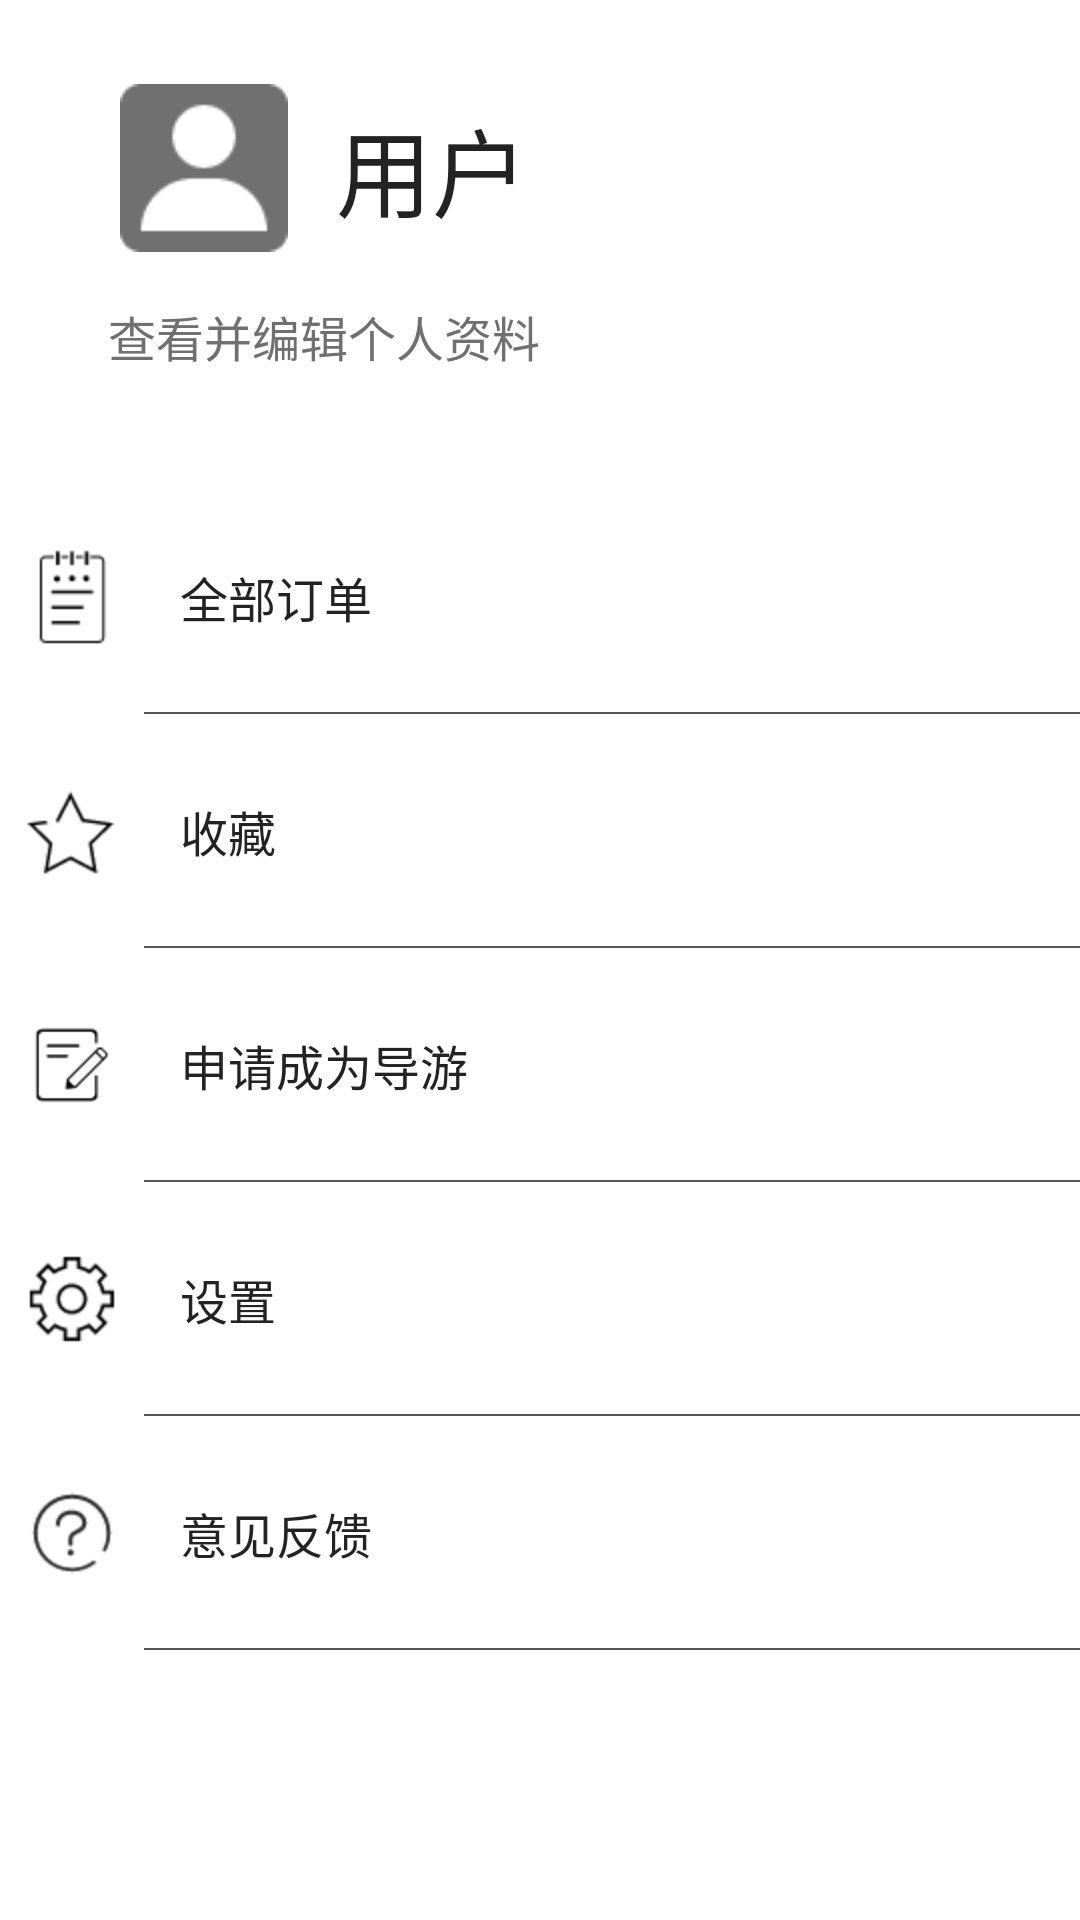

Where to tap for icons on this 1080*1920 app screen, as (x,y):
me apply: (72,1065)
me collection: (70,833)
me order: (72,597)
me setting: (72,1299)
me suggestion: (72,1533)
ueser: (204,168)
